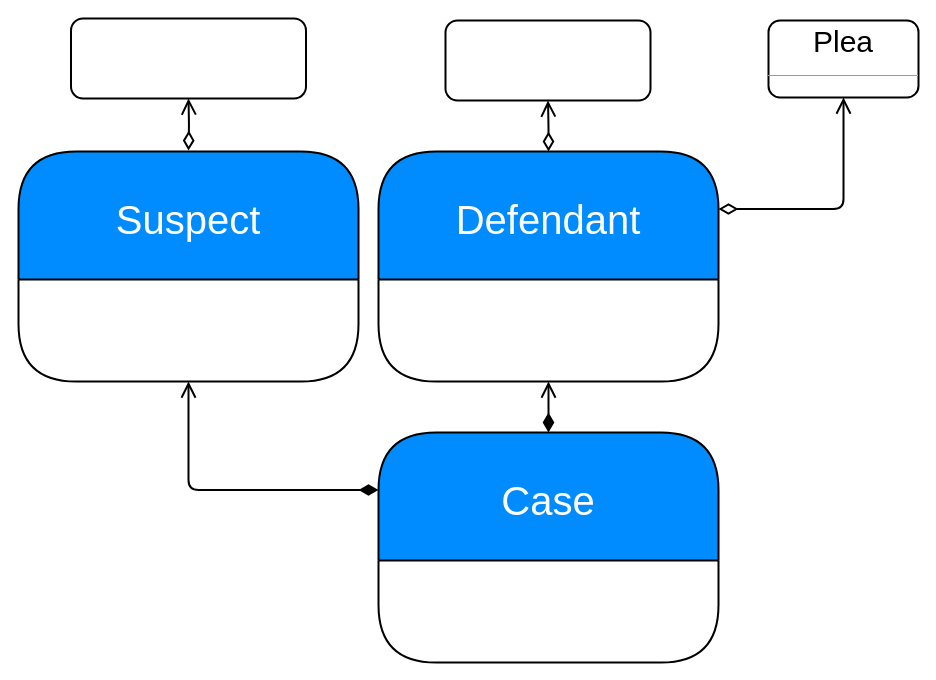
The diagram is 936 pixels wide and 680 high, and some of its shapes have lost their labels. The box of each missing label's shape, as (x1, y1, x2, y2) in pixels:
AnticipatedPlea: (70, 17, 306, 99)
IndicatedPlea: (444, 19, 651, 101)
